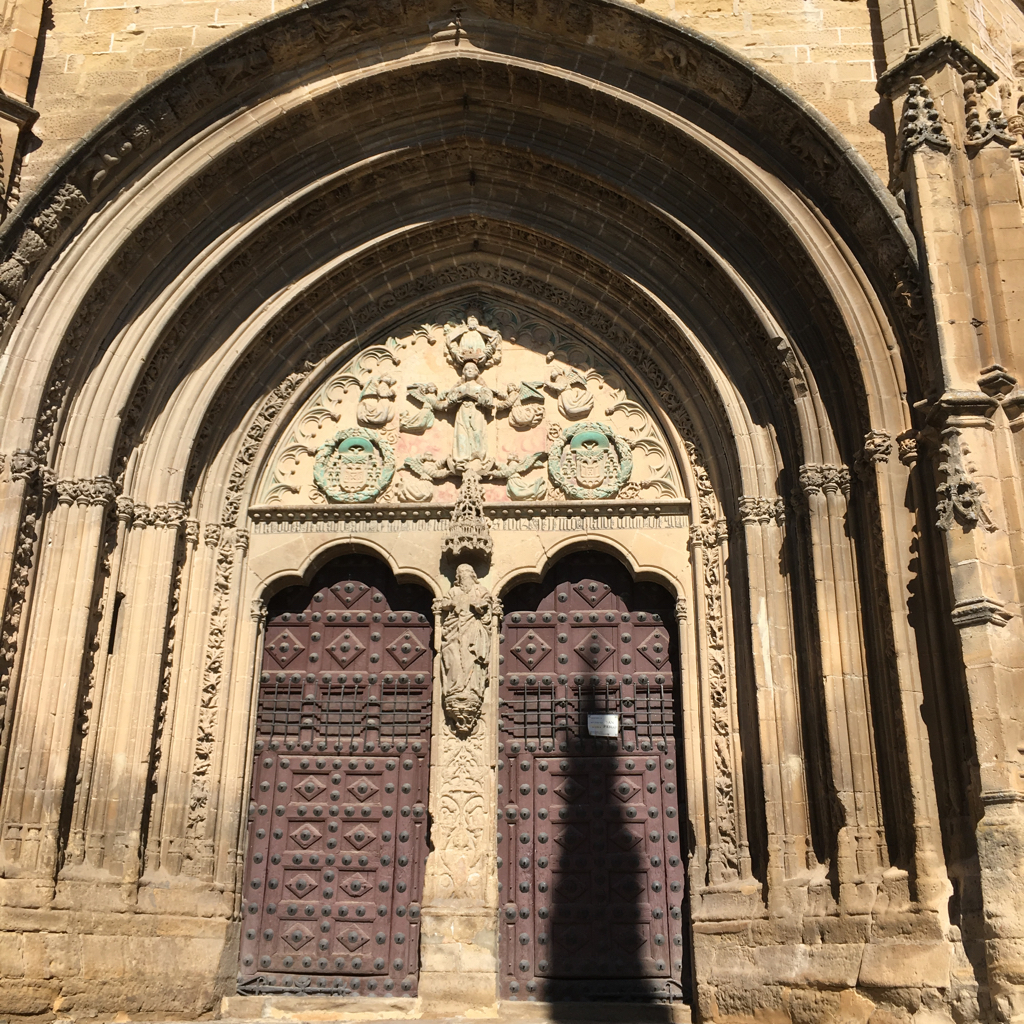arco-apuntado: (21, 52, 871, 501)
arco-trilobulado: (488, 528, 690, 629), (244, 531, 445, 630)
